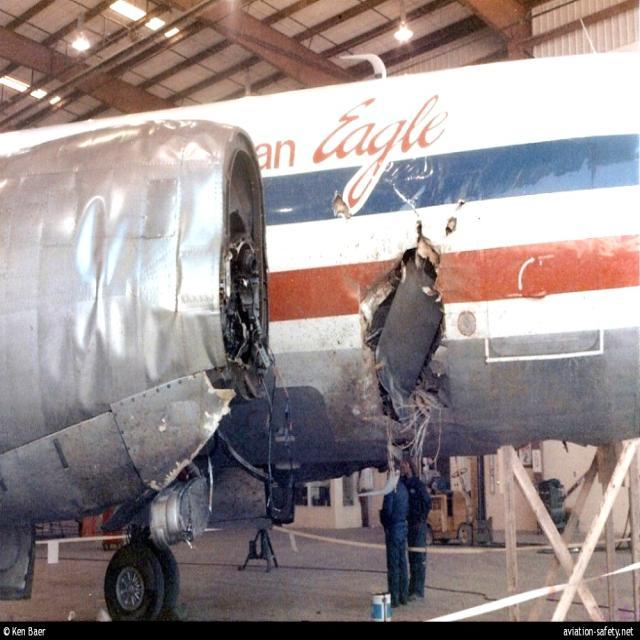dent: (45, 190, 199, 404)
